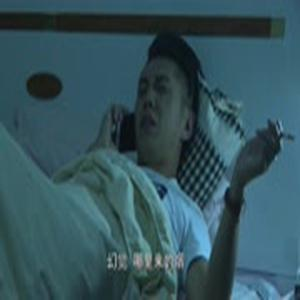cigarette: (280, 132, 299, 146)
